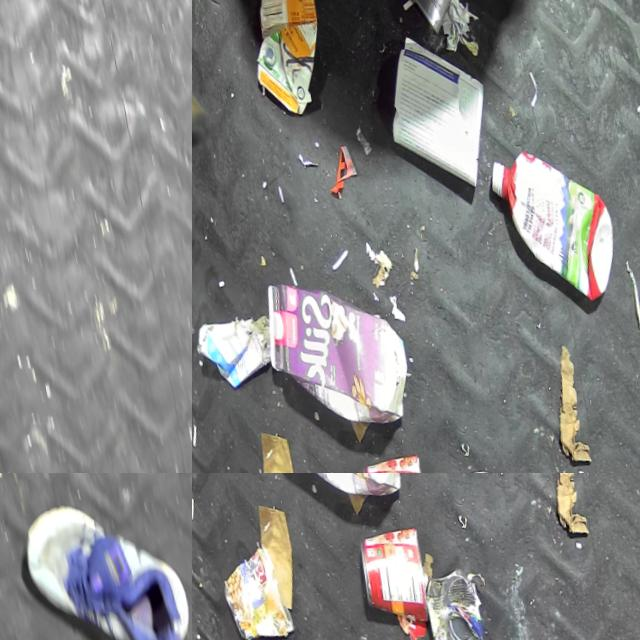can: (353, 516, 431, 625), (214, 537, 295, 640), (417, 555, 488, 640), (395, 0, 475, 35), (356, 443, 434, 473)
non_white_jug: (257, 263, 416, 441), (485, 129, 624, 307), (241, 0, 333, 122), (254, 473, 412, 512)
